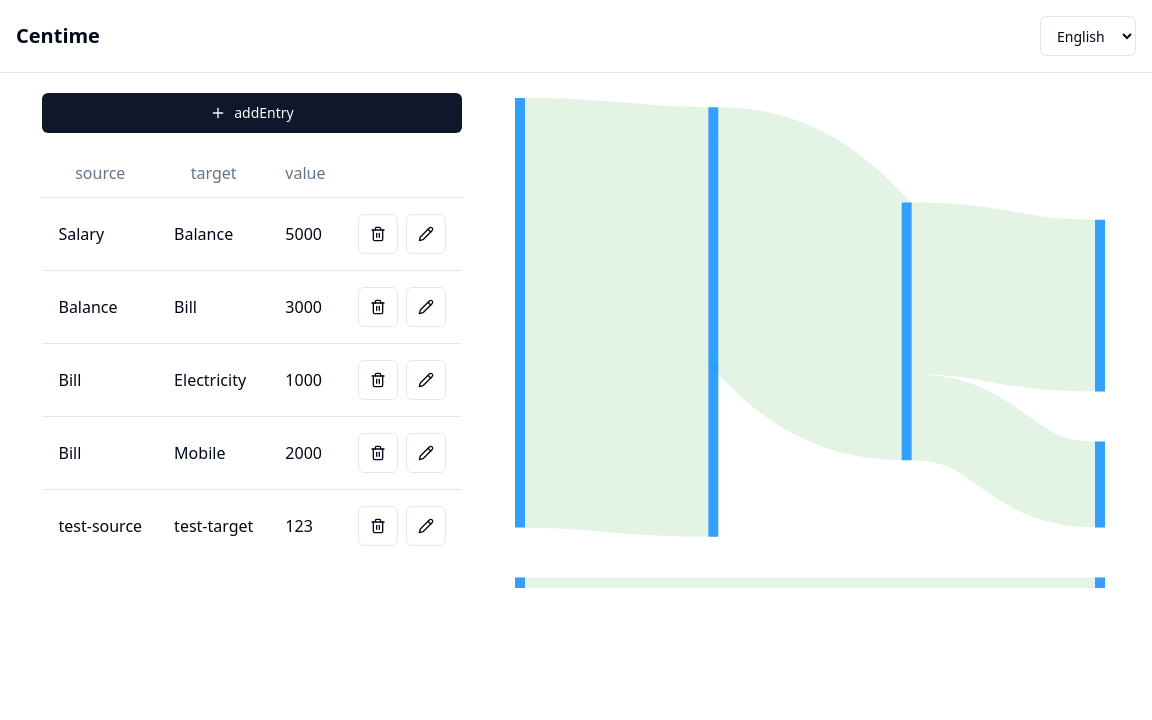
App › should update table on updating data entry
The width and height of the screenshot is (1152, 720).
Click the button named "edit" in the row of "Salary" at (426, 234), box [406, 214, 446, 254]
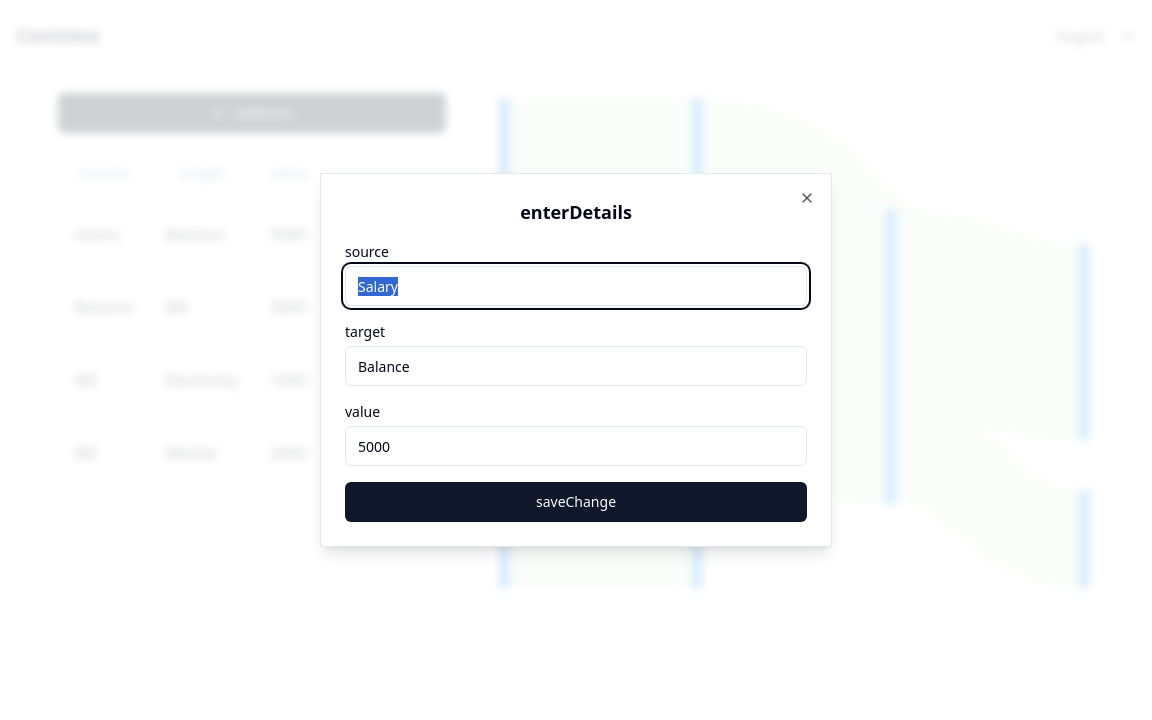
Check: the field labelled "source" holds "Salary"
Check: the field labelled "target" holds "Balance", box [345, 346, 807, 386]
Check: the number field holds "5000", box [345, 426, 807, 466]
Replace the text in the field labelled "source" with "edit-source" at (576, 286), box [345, 266, 807, 306]
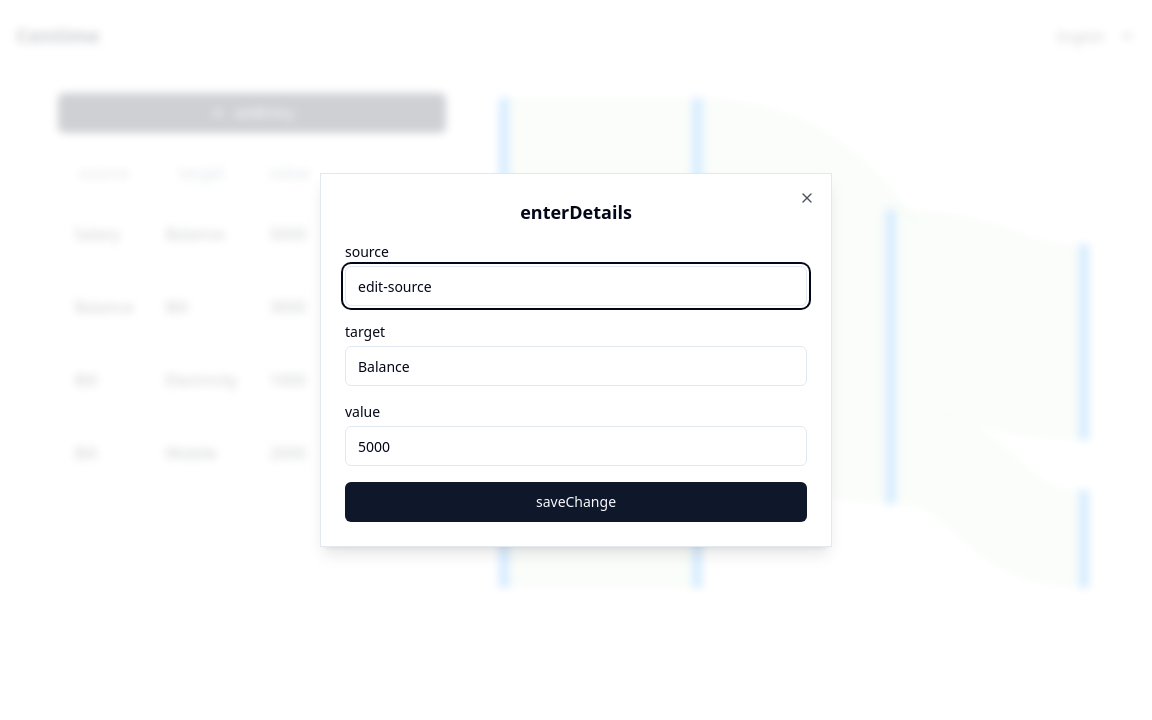
Replace the text in the field labelled "target" with "edit-target" at (576, 366), box [345, 346, 807, 386]
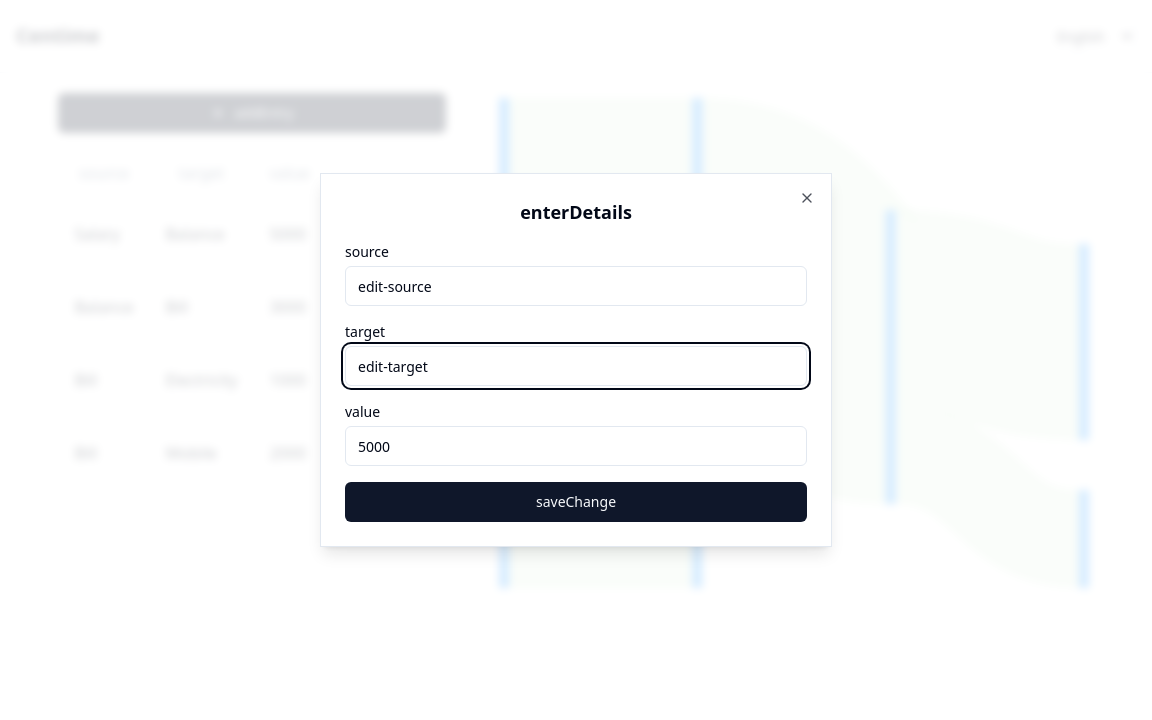
Replace the text in the number field with "100" at (576, 446), box [345, 426, 807, 466]
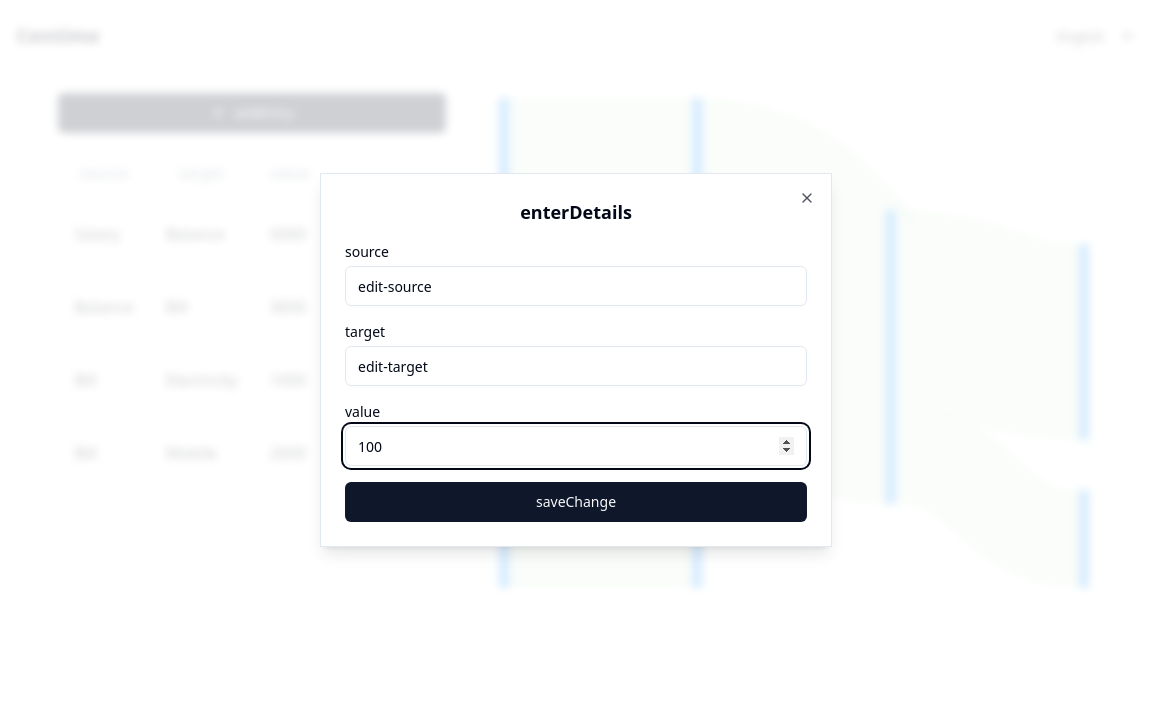
Click the button "saveChange" at (576, 502), box [345, 482, 807, 522]
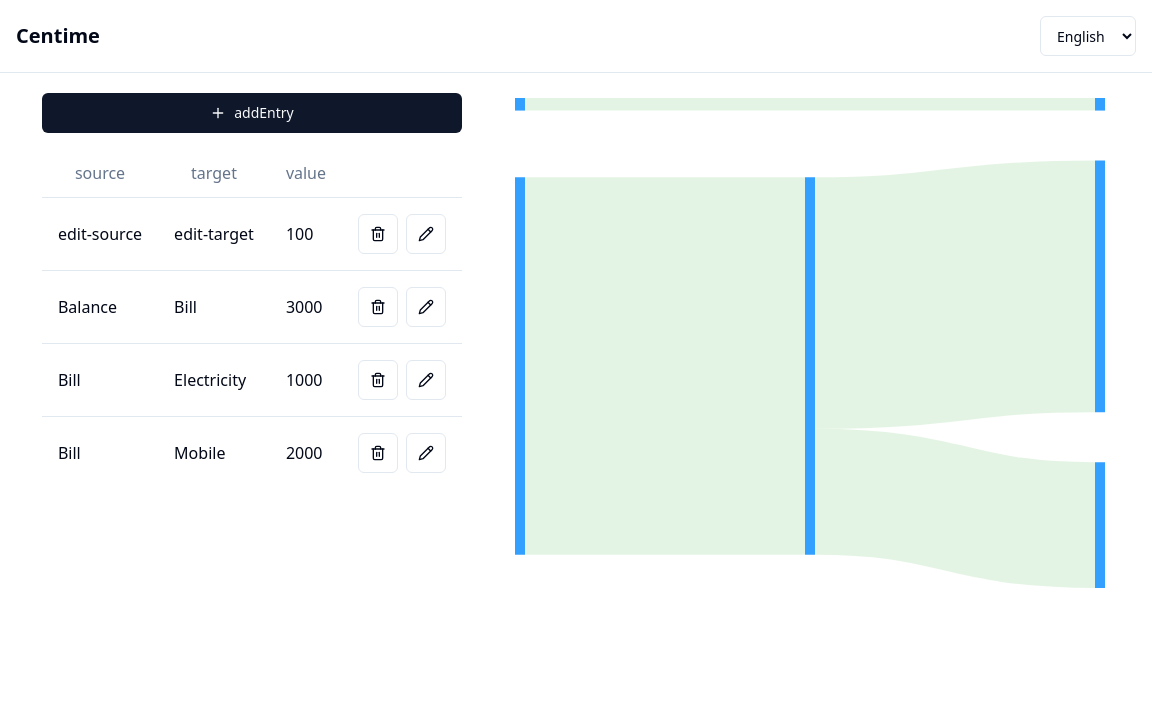
Check: the text "edit-source" is shown, box [42, 197, 158, 270]
Check: the text "edit-target" is shown, box [158, 197, 270, 270]
Check: the text "100" is shown, box [270, 197, 342, 270]
